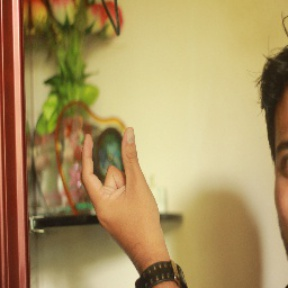U: (75, 126, 166, 244)
